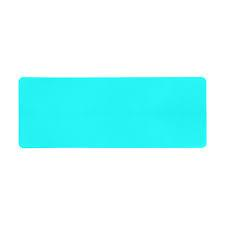cyan_zone: (16, 74, 210, 152)
